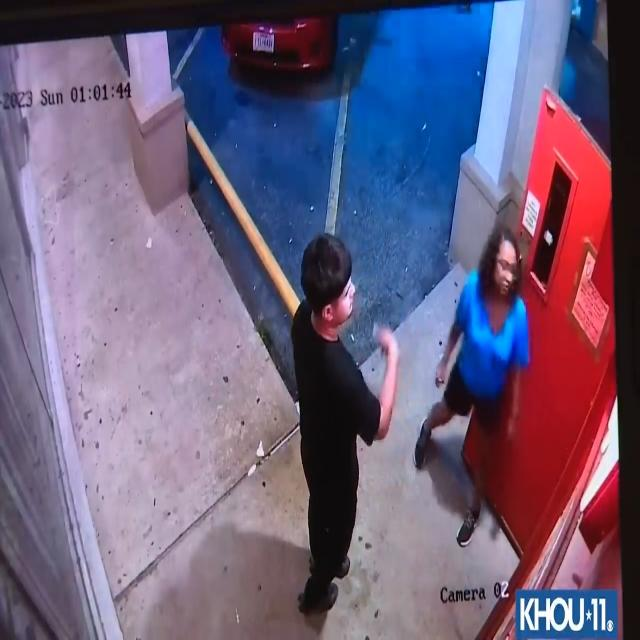Person: (416, 215, 537, 547), (290, 226, 388, 623)
